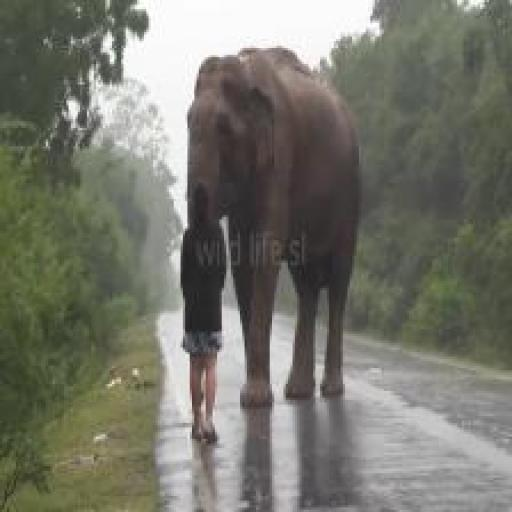Elephant: (185, 41, 380, 430)
